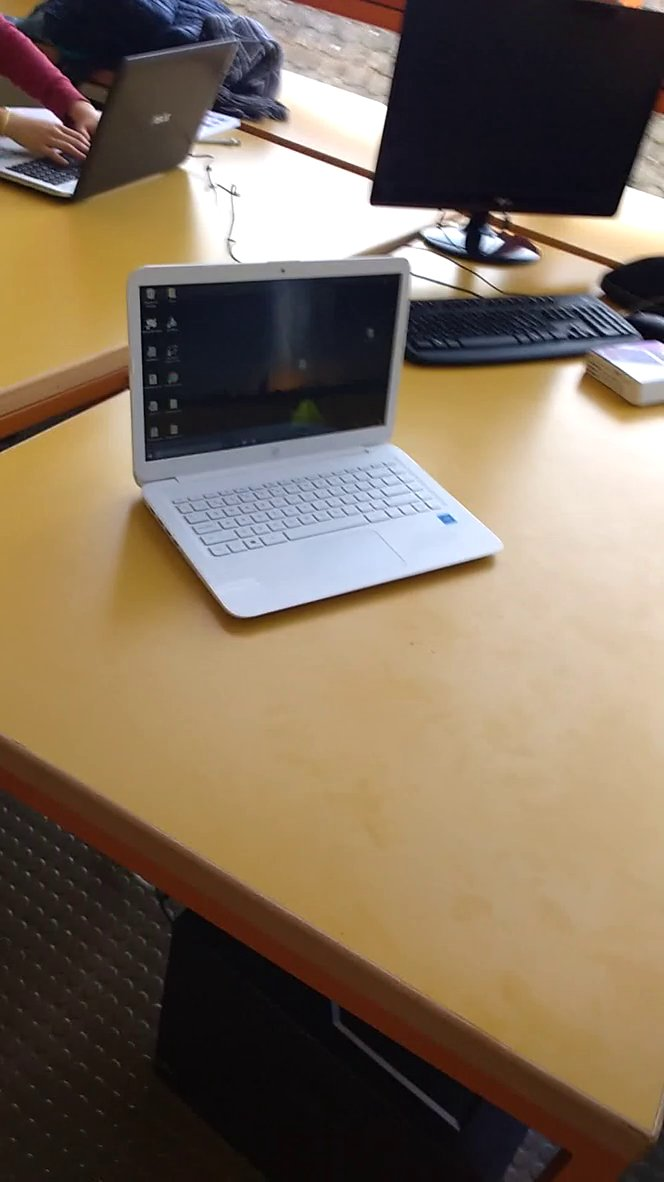laptop: (115, 247, 520, 634), (2, 33, 244, 216)
